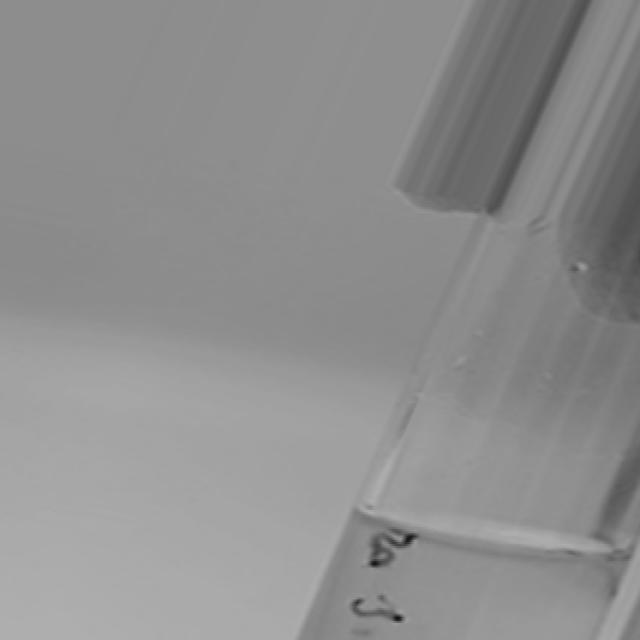larvas: (352, 597, 402, 620), (370, 530, 413, 549), (368, 548, 392, 567)
